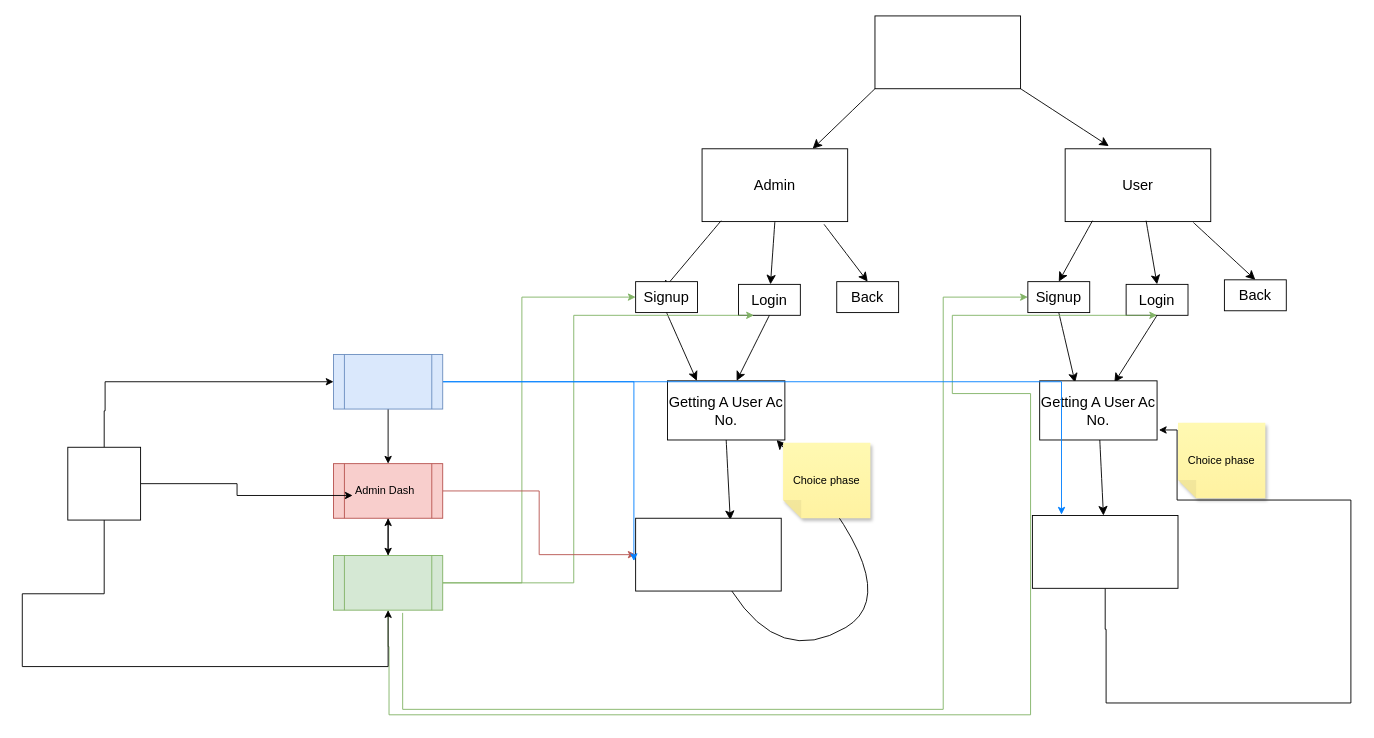
This 1374x738 diagram has some shape labels left out. The centre of each missing label's shape, as x and y in pixels:
"Classes" belongs at [104,483].
"Creds (Credentials)" belongs at [388,582].
"Displaying User Creds and Adding or Removing Cash" belongs at [708,554].
"First Choice of User/Admin" belongs at [947,52].
"Just Displaying Cash and Withdrawing Cash" belongs at [1104,551].
"User Info" belongs at [388,381].
